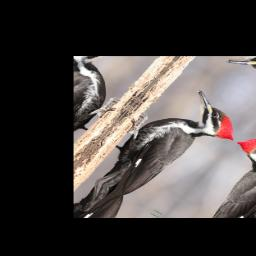Woodpecker: (84, 75, 254, 217)
